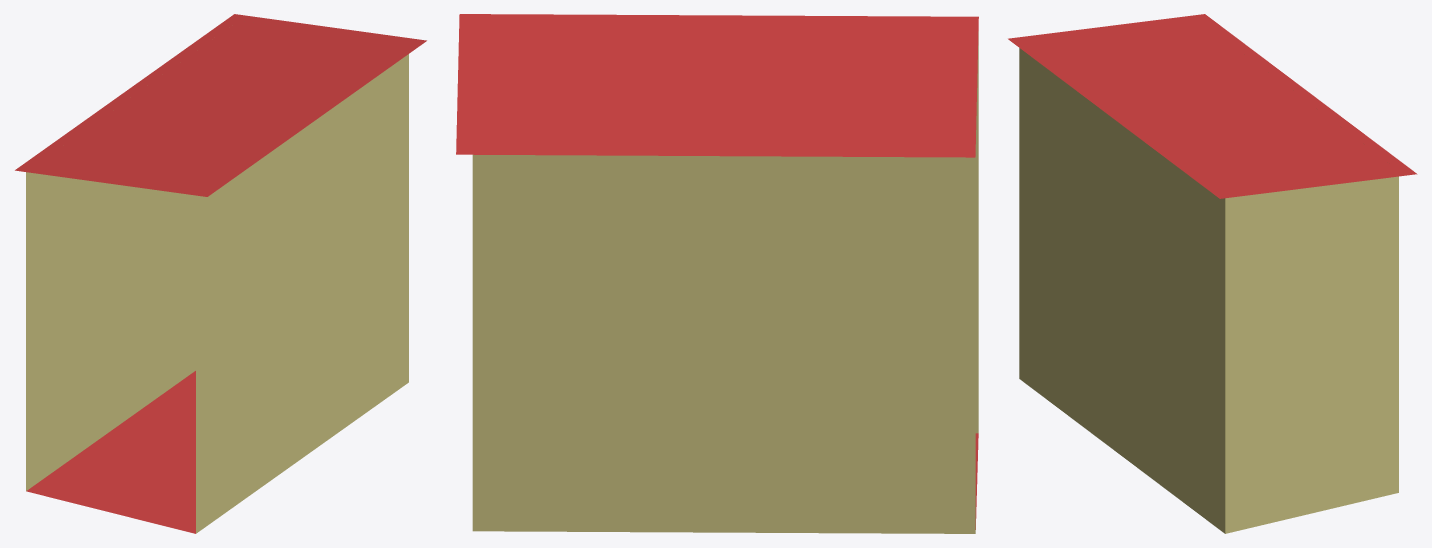
3 renders of one model, left to right at view 1: azimuth 30°, elevation 25°; view 2: azimuth 150°, elevation 25°; view 3: azimuth 270°, elevation 25°, orthographic. The views are drawn at different scales.
Size of the model in its own units: 8.99 by 7.53 by 6.94.
